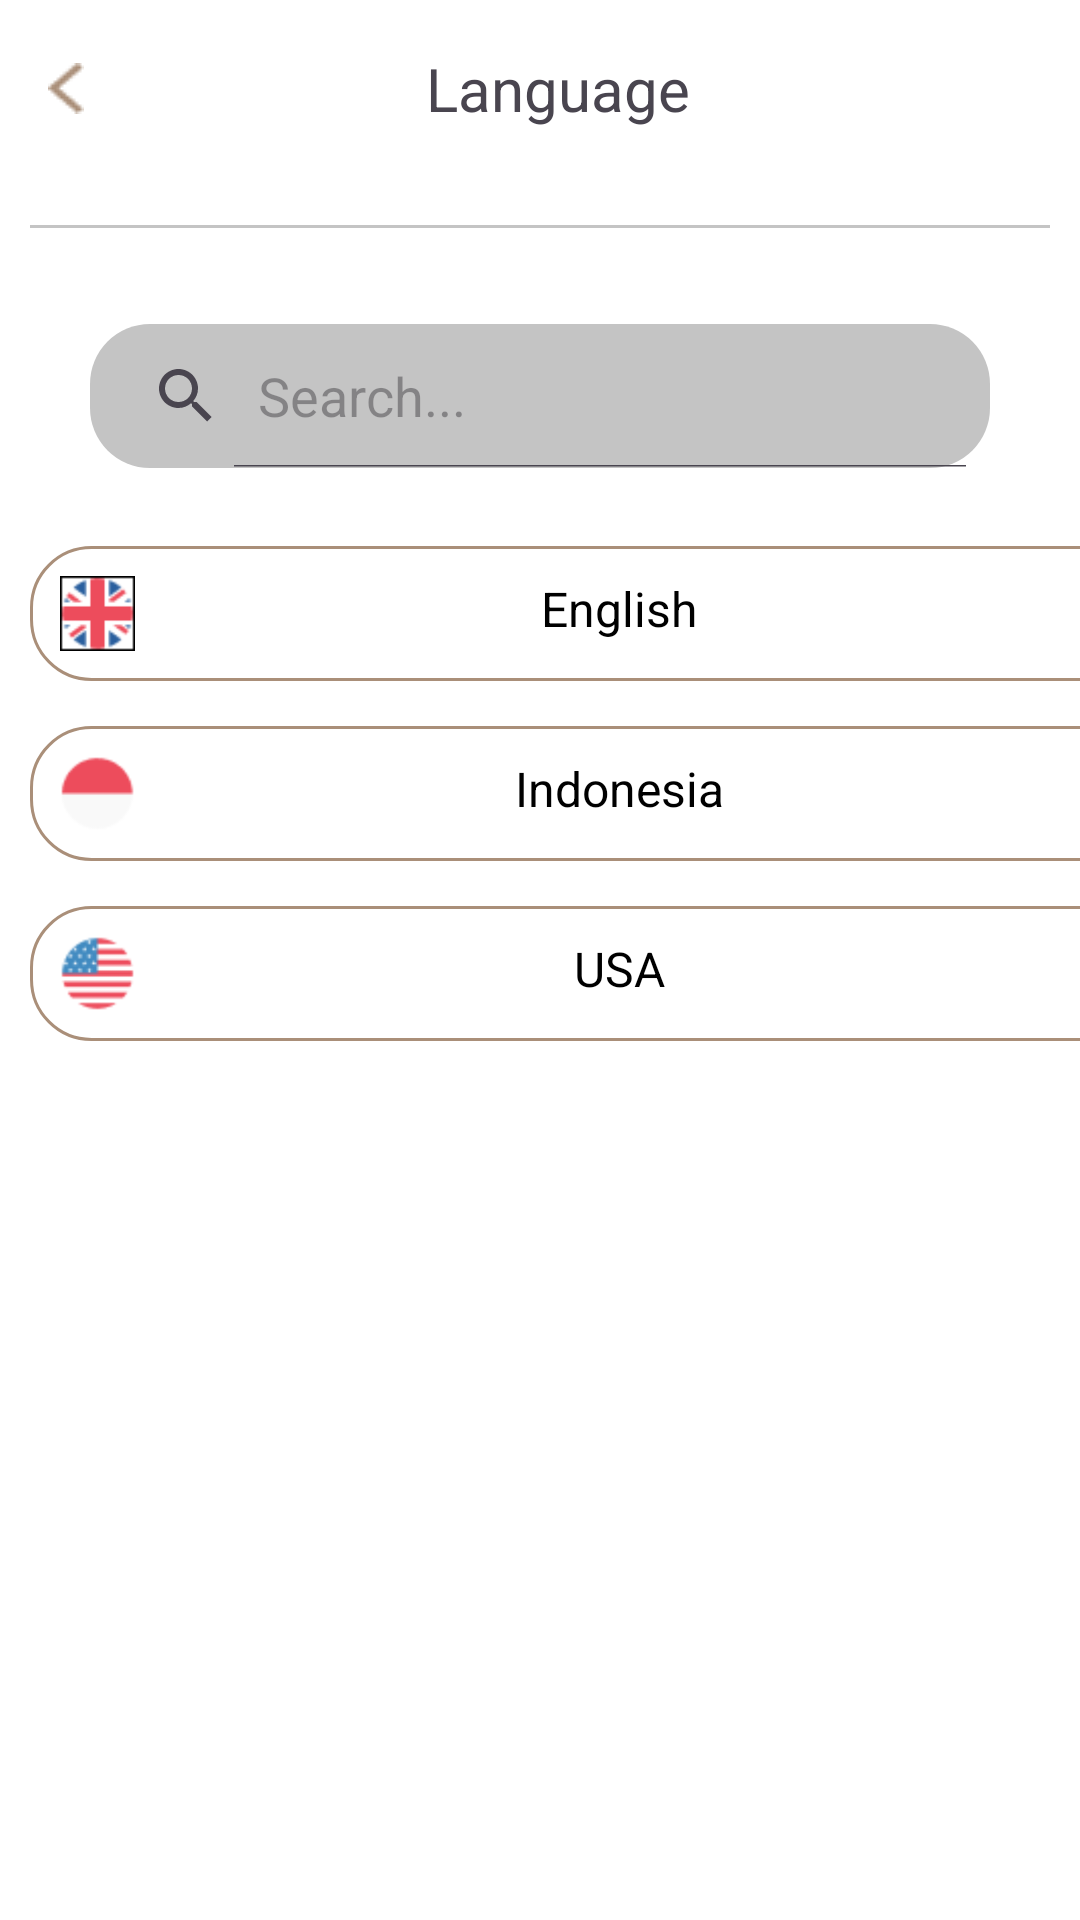

Locate icon controls on the screen. Image size 1080w x 1920h, boxes as region(x1, y1, x2, y2).
back arrow: region(48, 63, 84, 114)
